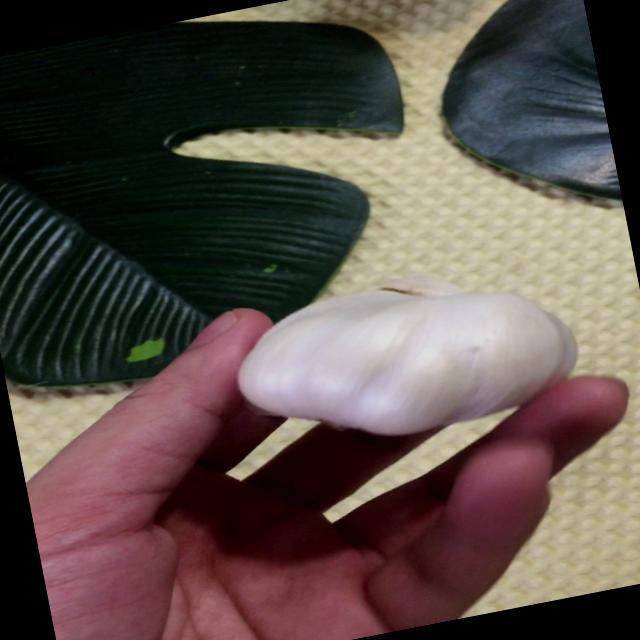garlic: (210, 238, 596, 476)
